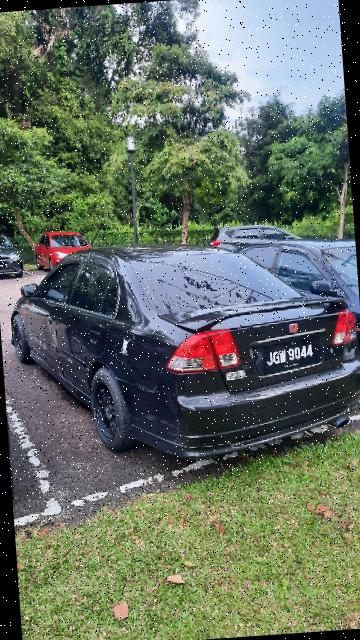License_Plate: (251, 330, 329, 378)
car: (9, 226, 360, 476)
